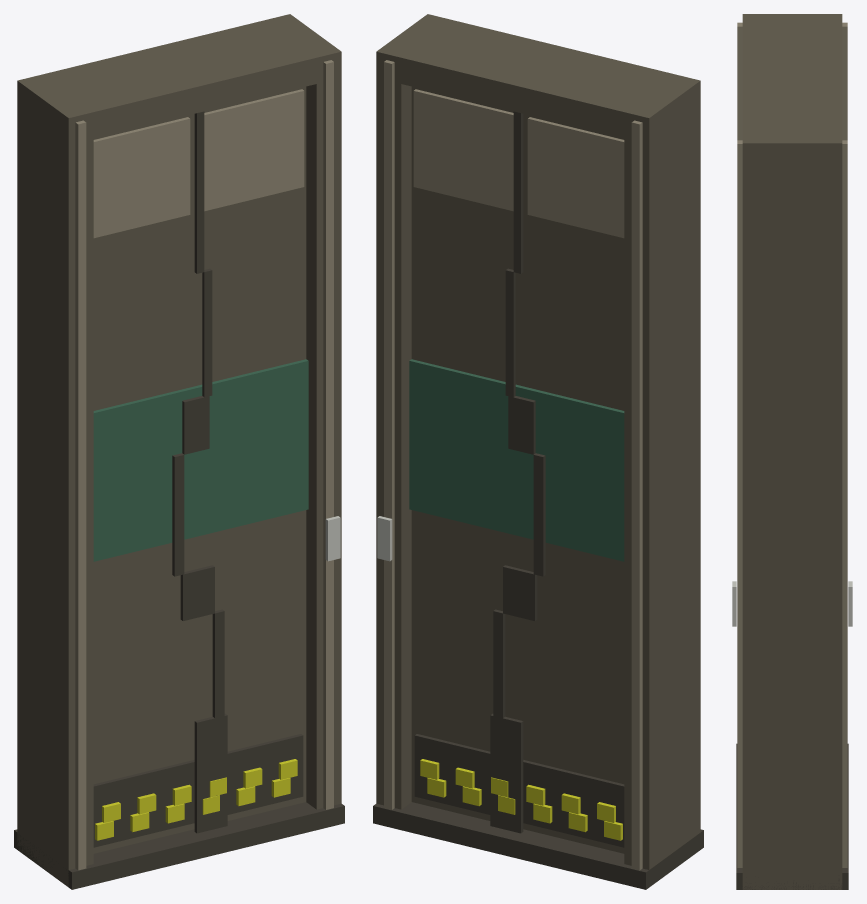
File: CMU3DSingleMedicalGovforDoor.glb
3 renders of one model, left to right at view 1: azimuth 30°, elevation 25°; view 2: azimuth 150°, elevation 25°; view 3: azimuth 270°, elevation 25°, orthographic. The views are drawn at different scales.
Parts seen in each view (by area): view 1: closed leaf body, door jamb (×2), department color band, header, upper inset band (×2), jamb raised edge (×2), leaf meeting seam (×7), lower hazard backing, threshold, side access reader; view 2: closed leaf body, door jamb (×2), department color band back, header, upper inset band back (×2), jamb raised edge (×2), leaf meeting seam back (×7), threshold, lower hazard backing back, side access reader back; view 3: door jamb (×2), header, jamb raised edge (×4), threshold.
Part boxes in pixels (x1,y1,x2,y2): closed leaf body: [93, 86, 306, 853]; door jamb (×2): [17, 14, 341, 887]; department color band: [93, 359, 308, 561]; header: [17, 14, 341, 144]; upper inset band (×2): [93, 89, 304, 238]; jamb raised edge (×2): [75, 60, 333, 870]; leaf meeting seam (×7): [172, 111, 227, 833]; lower hazard backing: [93, 734, 303, 847]; threshold: [14, 802, 344, 889]; side access reader: [325, 516, 340, 561]; closed leaf body: [411, 86, 624, 853]; door jamb (×2): [376, 14, 700, 869]; department color band back: [409, 359, 624, 561]; header: [376, 14, 700, 144]; upper inset band back (×2): [413, 89, 624, 238]; jamb raised edge (×2): [384, 60, 642, 870]; leaf meeting seam back (×7): [490, 111, 545, 833]; threshold: [373, 802, 703, 889]; lower hazard backing back: [414, 734, 624, 847]; side access reader back: [377, 516, 392, 561]; door jamb (×2): [742, 14, 842, 889]; header: [742, 14, 842, 168]; jamb raised edge (×4): [737, 22, 847, 867]; threshold: [736, 743, 848, 889].
Bounding box in the file's own units: 0.98 × 2.64 × 0.386.
